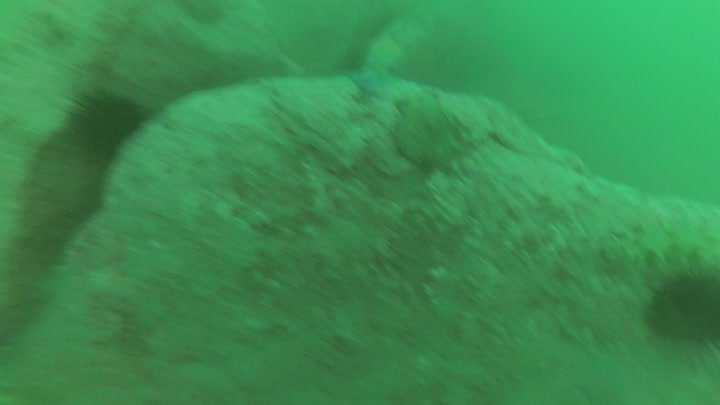echinus: (58, 88, 150, 169), (643, 264, 720, 345)
holothurian: (604, 214, 720, 272)
starfish: (366, 31, 406, 72), (350, 69, 393, 100)
